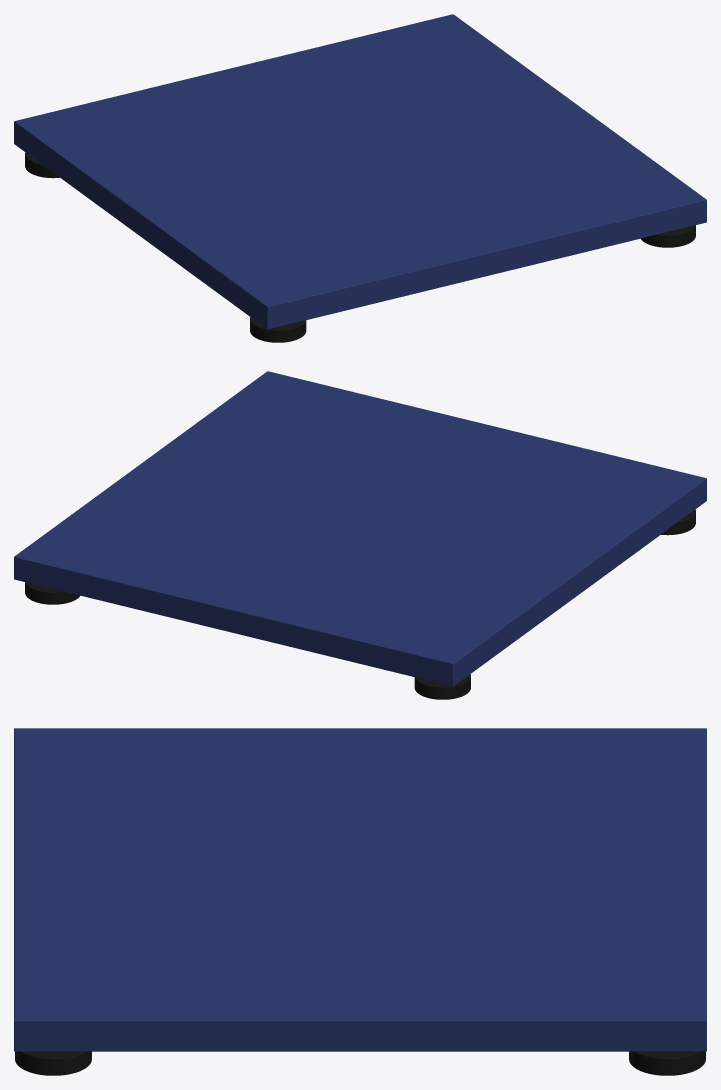
Rendered from PLT_1X1_AF.glb.
The picture shows the model from 3 angles, top to bottom: view 1: azimuth 30°, elevation 25°; view 2: azimuth 150°, elevation 25°; view 3: azimuth 270°, elevation 25°; orthographic projection. The views are drawn at different scales.
Size of the model in its own units: 360 by 32 by 360.
